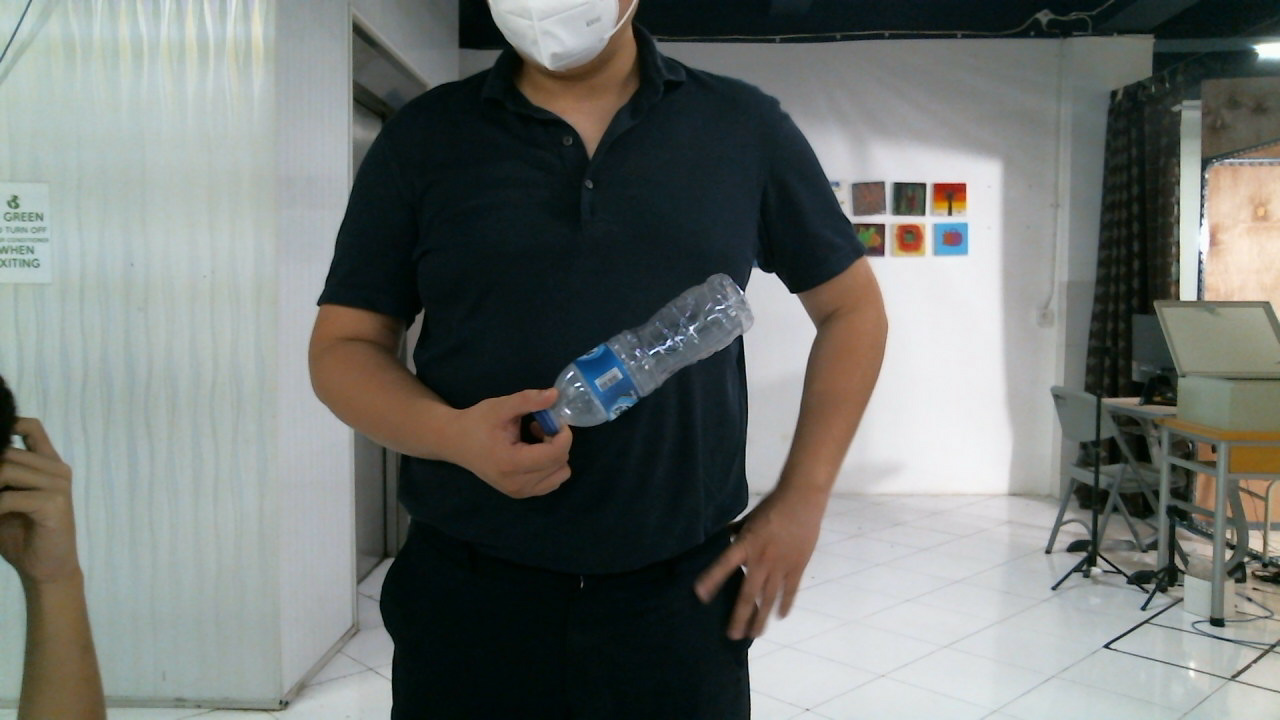Bottle: (534, 272, 753, 439)
